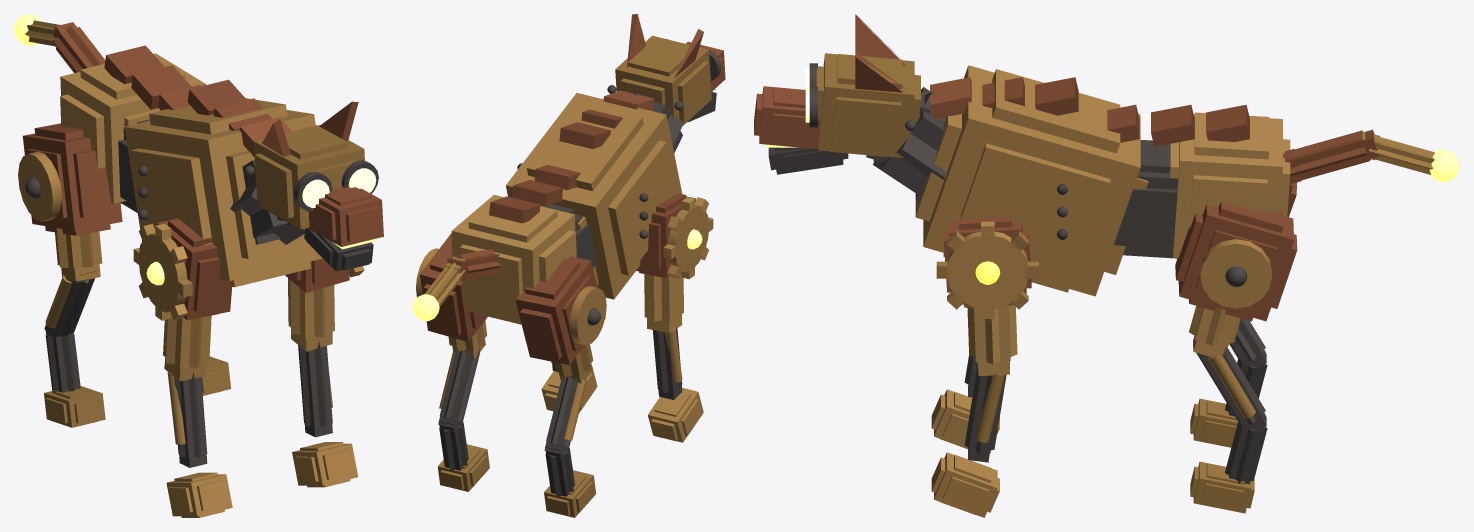
The picture shows the model from 3 angles, left to right: view 1: azimuth 30°, elevation 25°; view 2: azimuth 150°, elevation 25°; view 3: azimuth 270°, elevation 25°; orthographic projection. The views are drawn at different scales.
Visible parts, largest first — view 1: CogHound; view 2: CogHound; view 3: CogHound.
Boxes of the visible parts, x1,y1,x2,y2 form: CogHound: (14, 14, 383, 517); CogHound: (412, 14, 725, 517); CogHound: (754, 14, 1459, 517).
Bounding box in the file's own units: 0.504 × 0.9947 × 1.43.
